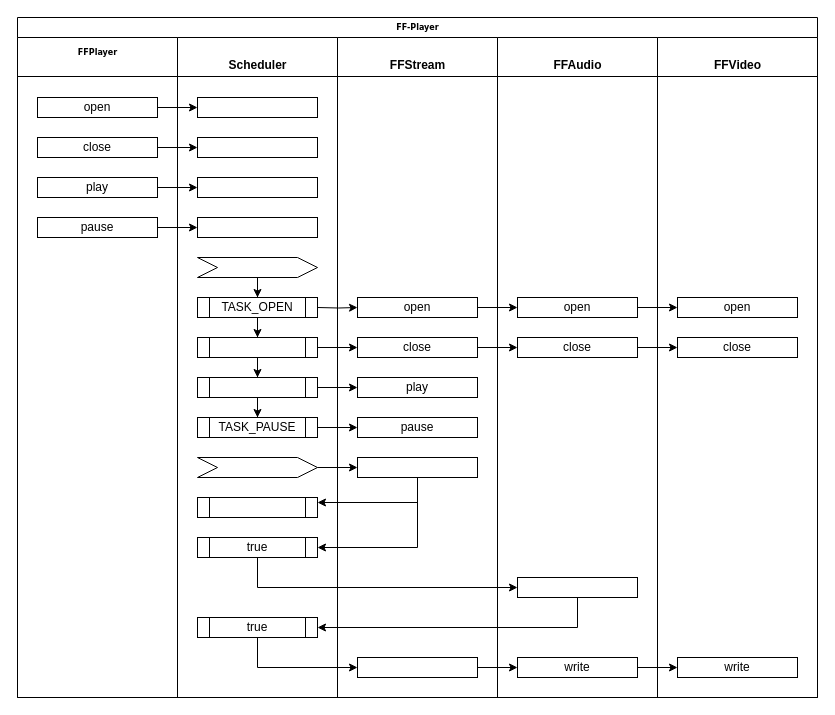
Some shapes in this 835 by 715 pixel diagram are drawn without their labels. The shapes that lost their labels are listed below. From the top down, each one's centre as x and y in pixels, then its label:
the point at 257,107: add(TASK_OPEN)
the point at 257,147: add(TASK_CLOSE)
the point at 257,187: add(TASK_PLAY)
the point at 257,227: add(TASK_PAUSE)
the point at 257,267: task
the point at 257,347: TASK_CLOSE
the point at 257,387: TASK_PLAY
the point at 257,467: repeat
the point at 417,467: isPlaying
the point at 257,507: false
the point at 577,587: isEmpty
the point at 417,667: read
